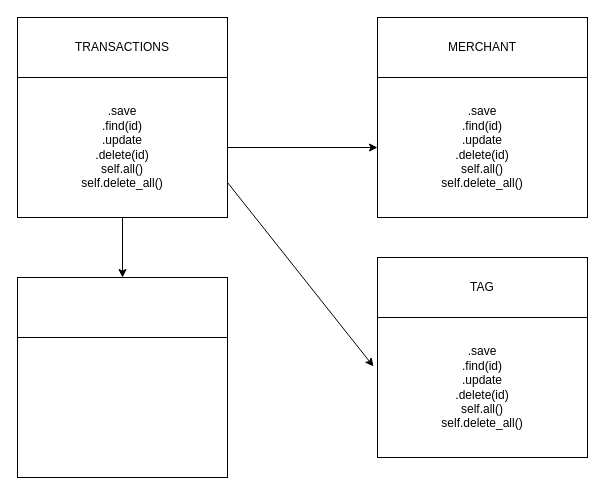
This 605x495 diagram has some shape labels left out. The shapes that lost their labels are listed below. From the top down, each one's centre as x and y in pixels, then its label:
[122,307]: TOTAL
[122,407]: .update self.all()
